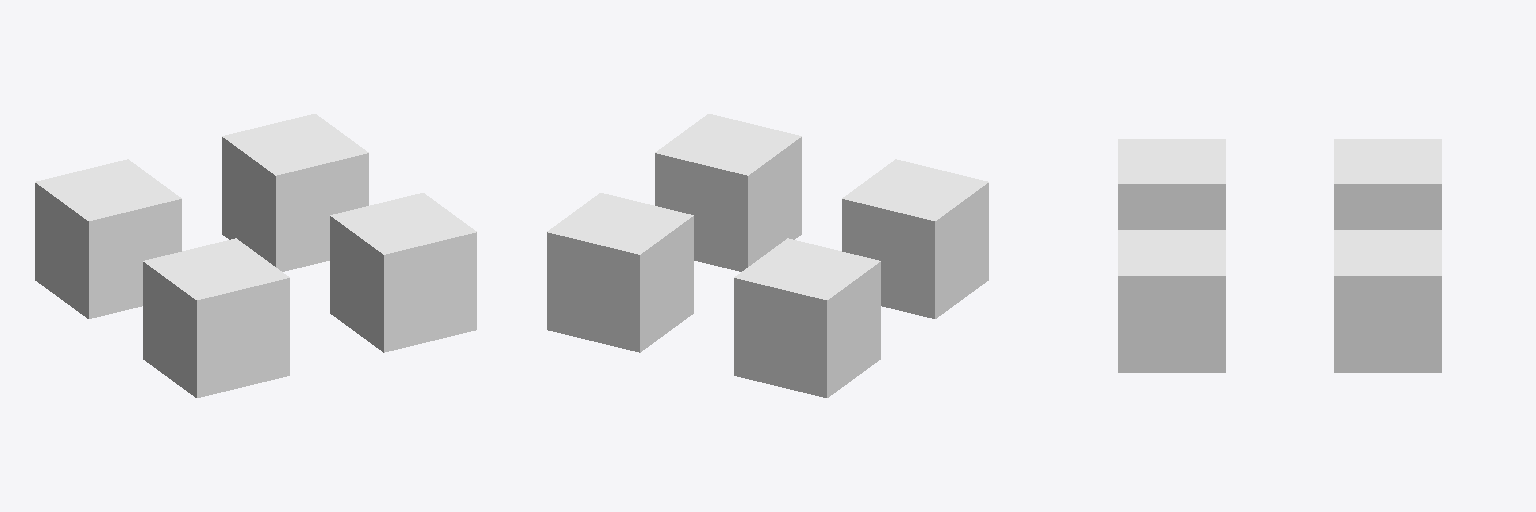
Rendered from rain_1.obj.
3 views of the same model, side by side, from view 1: azimuth 30°, elevation 25°; view 2: azimuth 150°, elevation 25°; view 3: azimuth 270°, elevation 25° (orthographic).
Parts seen in each view (by area): view 1: object 1; view 2: object 1; view 3: object 1.
Boxes of the visible parts, x1=… form: object 1: x1=35, y1=114, x2=476, y2=397; object 1: x1=547, y1=114, x2=988, y2=397; object 1: x1=1118, y1=139, x2=1441, y2=372.
Size of the model in its own units: 0.3 by 0.1 by 0.3.